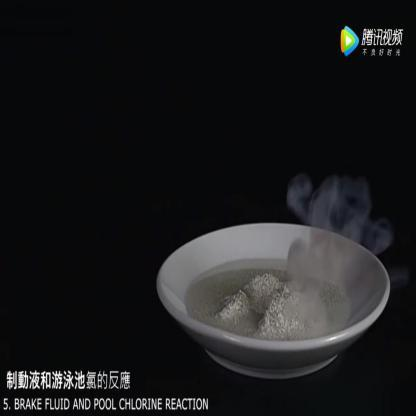smoke: (288, 172, 388, 286)
